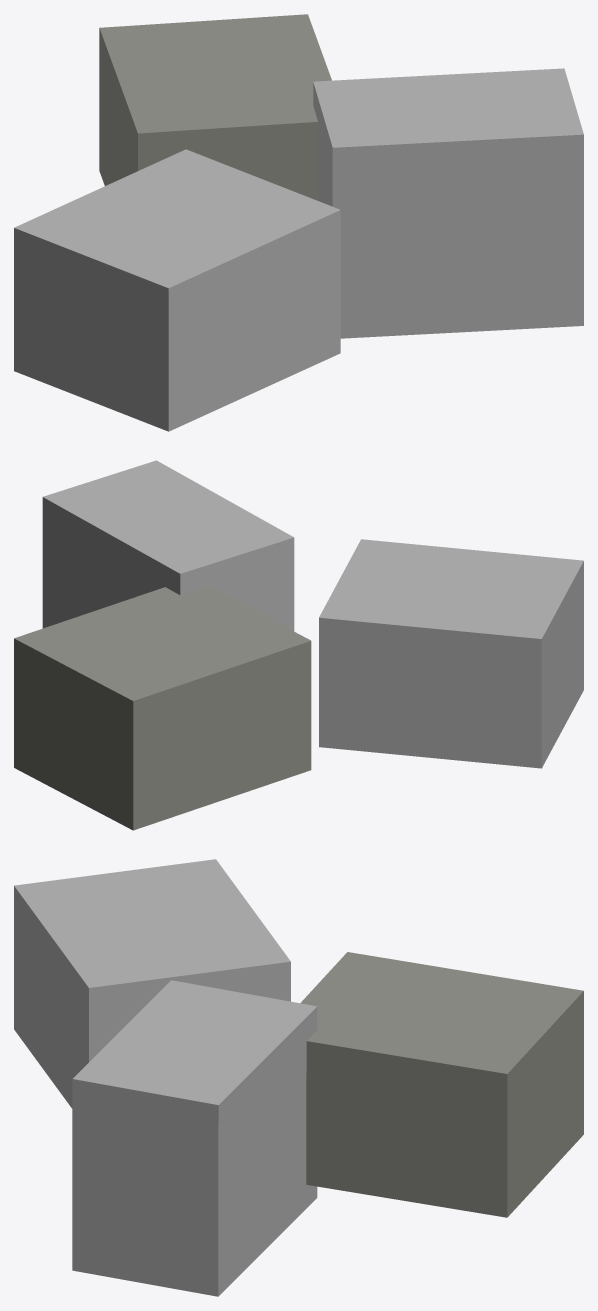
Rendered from SM_Palots_v3_Volcados_LOD1.fbx.
The picture shows the model from 3 angles, top to bottom: view 1: azimuth 30°, elevation 25°; view 2: azimuth 150°, elevation 25°; view 3: azimuth 270°, elevation 25°; orthographic projection. The views are drawn at different scales.
Visible parts, largest first — view 1: SM_viveres_nules_v23_LOD1; view 2: SM_viveres_nules_v23_LOD1; view 3: SM_viveres_nules_v23_LOD1.
Boxes of the visible parts, box(x1,y1,x2,y2) form: SM_viveres_nules_v23_LOD1: box(14, 14, 583, 431); SM_viveres_nules_v23_LOD1: box(14, 460, 583, 830); SM_viveres_nules_v23_LOD1: box(14, 859, 583, 1296).
Bounding box in the file's own units: 3.02 × 1 × 2.7.
